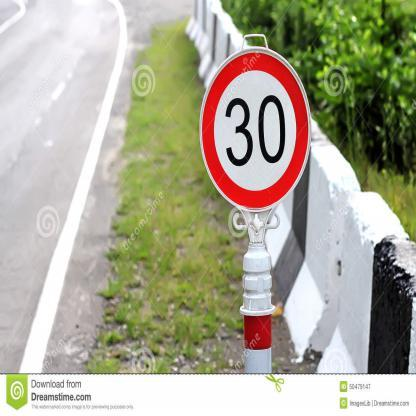Speed Limit 30: (198, 48, 310, 210)
